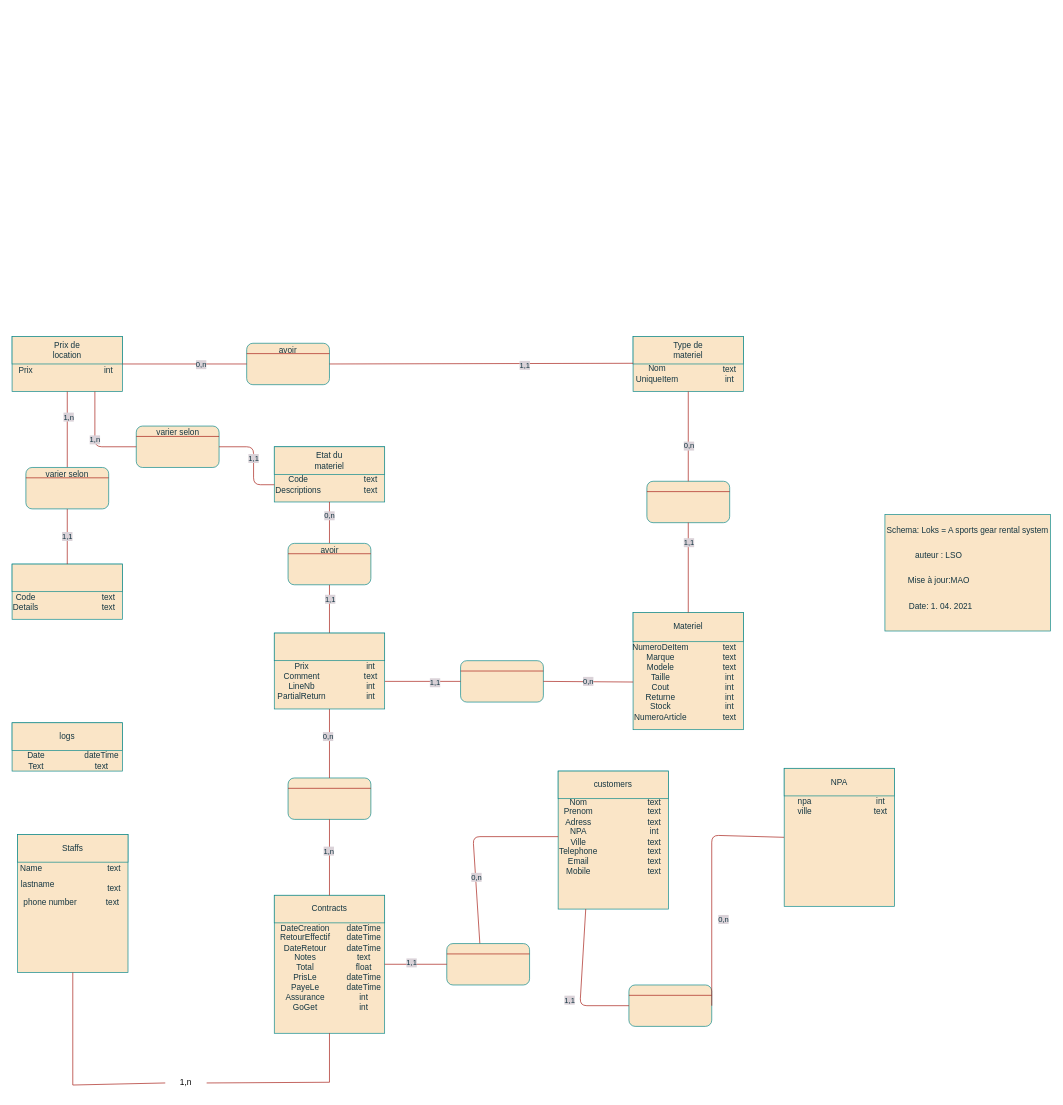
Some shapes in this 1063 by 1105 pixel diagram are drawn without their labels. The centre of each missing label's shape, as x and y in pixels:
"contenir" belongs at pixel 329 798.
"Durée" belongs at pixel 66 577.
"définir" belongs at pixel 688 502.
"faire" belongs at pixel 488 964.
"habiter" belongs at pixel 670 1005.
"Materiel Loue" belongs at pixel 329 646.
"être" belongs at pixel 501 681.
